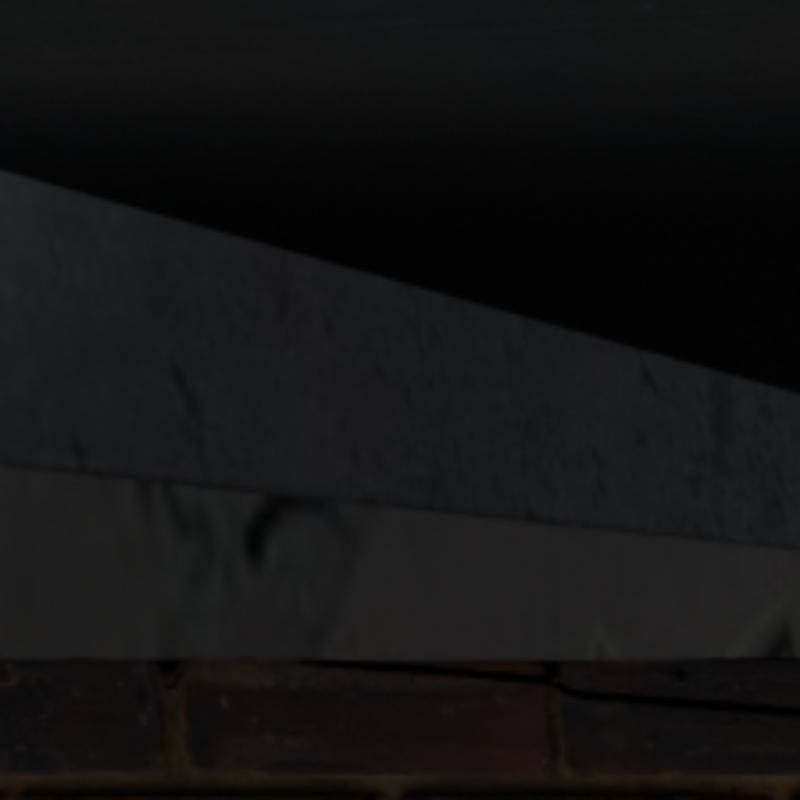pothole: (300, 661, 796, 714)
